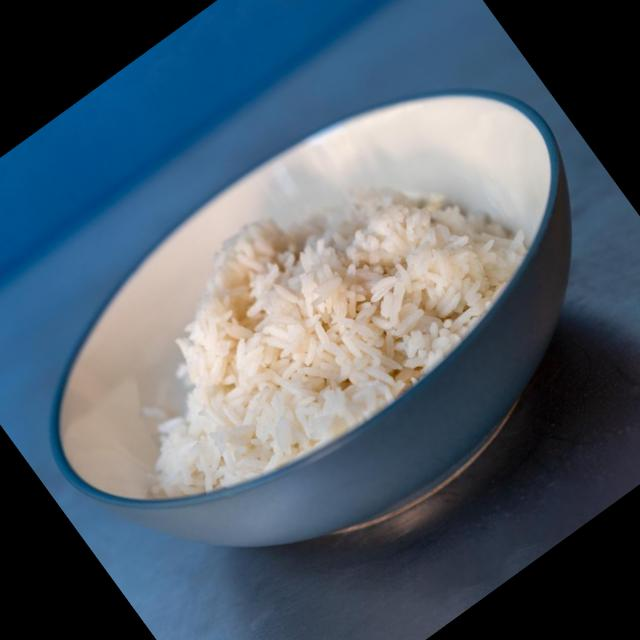rice: (144, 183, 519, 494)
